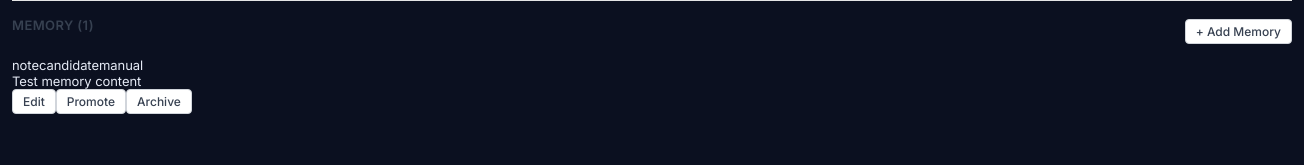
MemoryPanel › surfaces action error as non-blocking inline message
This screenshot has width=1304, height=165.
Step 1. Click the button with class "memory-item-promote" → [91, 102], box [56,89,126,114]
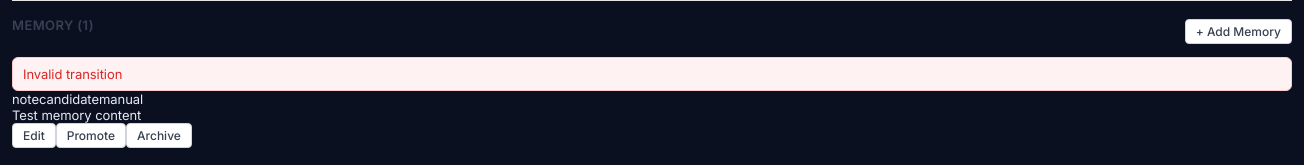
Expected: the list with class "memory-item-list" is shown, [12,91,192,148]
Expected: the text "Invalid transition" is shown, [12,57,1292,91]
